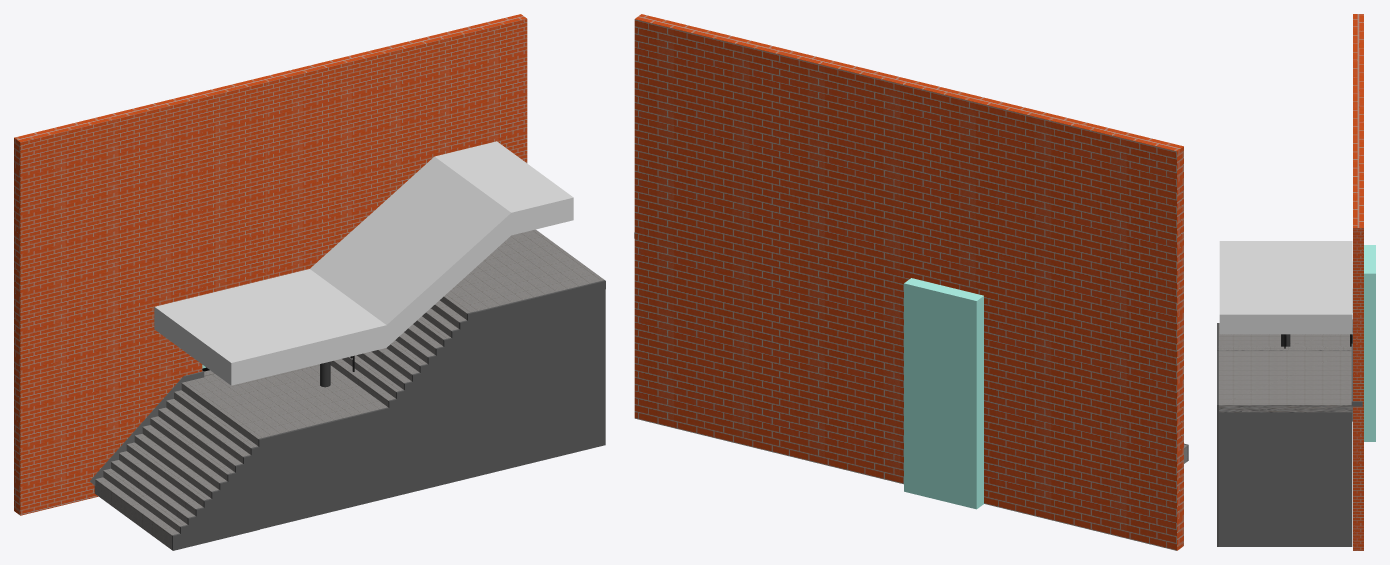
Rendered from cantabria_demo.dae.
The picture shows the model from 3 angles, left to right: view 1: azimuth 30°, elevation 25°; view 2: azimuth 150°, elevation 25°; view 3: azimuth 270°, elevation 25°; orthographic projection. The views are drawn at different scales.
Parts seen in each view (by area): view 1: Cube.001, Cube.006, Cube.021, Cube.023, Cube.017, Cube, Cube.002, Cube.004, Cube.022, Cube.024, Cube.026, Cube.025 (+1 smaller); view 2: Cube.001, Cube.005; view 3: Cube.018, Cube.006, Cube.002, Cube.001, Cube.005, Cube, Cube.004, Cube.021.
Part boxes in pixels (bbox=[...]): Cube.001: bbox=[14, 14, 527, 515]; Cube.006: bbox=[154, 141, 573, 385]; Cube.021: bbox=[476, 289, 605, 476]; Cube.023: bbox=[259, 395, 476, 529]; Cube.017: bbox=[94, 390, 257, 549]; Cube: bbox=[181, 364, 387, 445]; Cube.002: bbox=[449, 229, 604, 311]; Cube.004: bbox=[330, 292, 474, 406]; Cube.022: bbox=[172, 446, 259, 550]; Cube.024: bbox=[388, 311, 475, 416]; Cube.026: bbox=[258, 407, 389, 447]; Cube.025: bbox=[475, 280, 605, 320]; Cube.001: bbox=[634, 14, 1183, 550]; Cube.005: bbox=[904, 278, 983, 509]; Cube.018: bbox=[1219, 412, 1352, 546]; Cube.006: bbox=[1219, 241, 1352, 334]; Cube.002: bbox=[1219, 350, 1352, 412]; Cube.001: bbox=[1353, 14, 1363, 550]; Cube.005: bbox=[1364, 245, 1375, 441]; Cube: bbox=[1219, 323, 1352, 346]; Cube.004: bbox=[1219, 346, 1352, 421]; Cube.021: bbox=[1217, 412, 1218, 546].
Size of what is drawn, in the model's own units: 23.46 by 7.35 by 16.48.
Materials: 18 (9 with a texture image).
